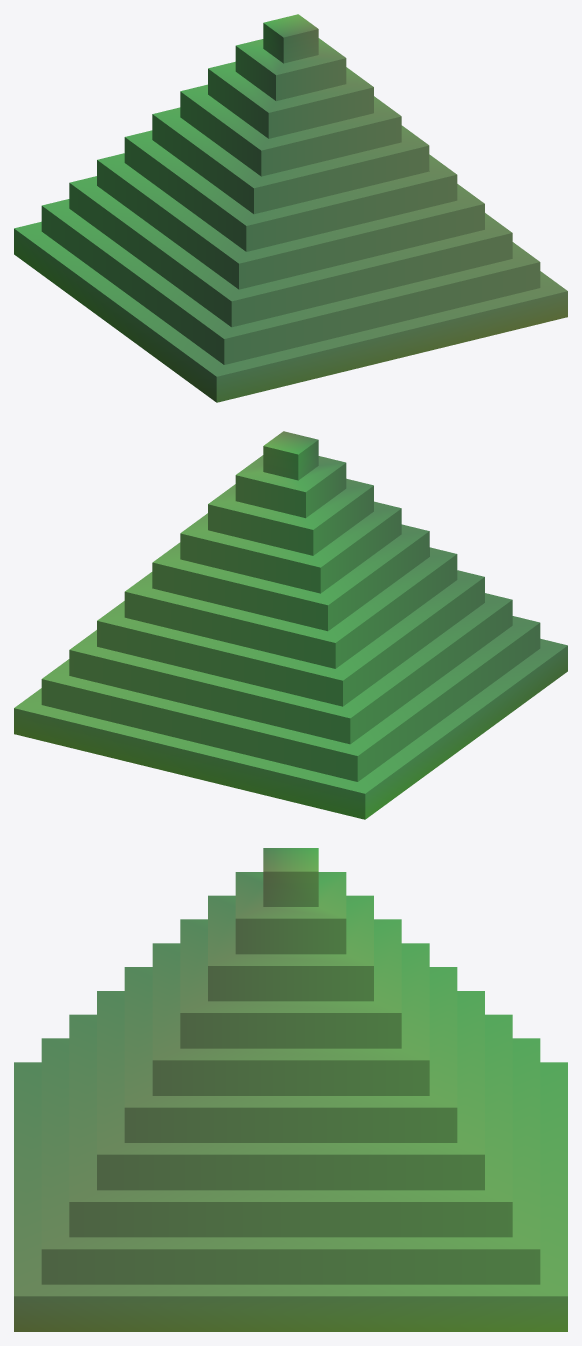
3 renders of one model, top to bottom at view 1: azimuth 30°, elevation 25°; view 2: azimuth 150°, elevation 25°; view 3: azimuth 270°, elevation 25°, orthographic. The views are drawn at different scales.
Visible parts, largest first — view 1: Pyramid; view 2: Pyramid; view 3: Pyramid.
Part boxes in pixels (x1,y1,x2,y2): Pyramid: (14,14,567,402); Pyramid: (14,431,567,819); Pyramid: (14,848,567,1331).
Size of the model in its own units: 141 by 100 by 141.
